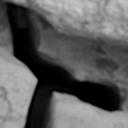brick: (9, 0, 127, 45)
broken_brick: (0, 46, 34, 127), (53, 94, 127, 127)
crack: (2, 0, 126, 127)
